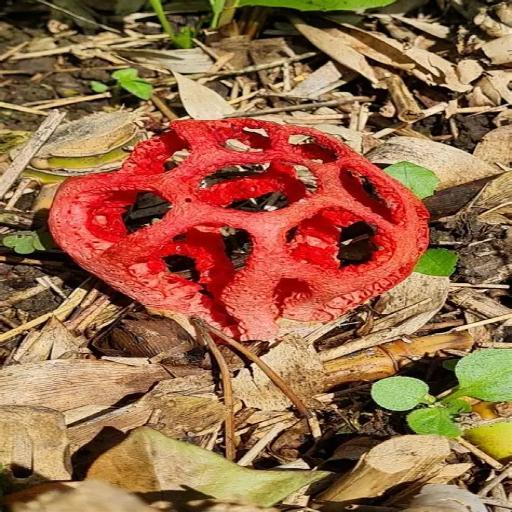mushroom: (31, 70, 447, 374)
